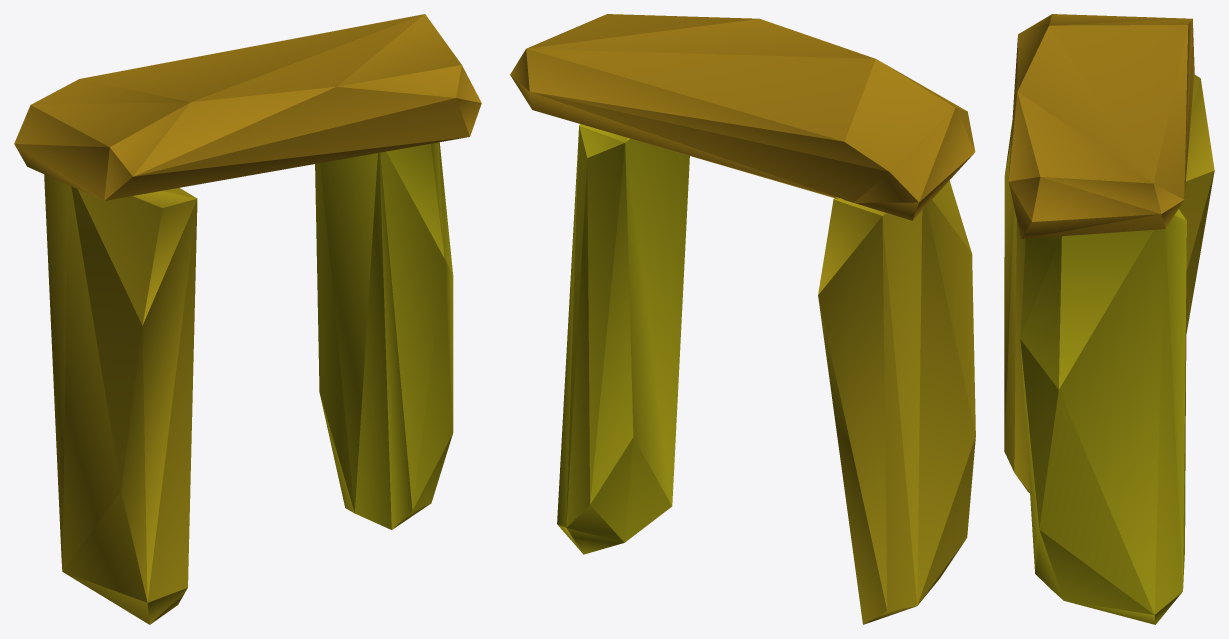
File: hairhenge01.fbx
3 renders of one model, left to right at view 1: azimuth 30°, elevation 25°; view 2: azimuth 150°, elevation 25°; view 3: azimuth 270°, elevation 25°, orthographic. The views are drawn at different scales.
Parts seen in each view (by area): view 1: hairhenge.001; view 2: hairhenge.001; view 3: hairhenge.001.
Boxes of the visible parts, <box> form: hairhenge.001: <box>14,14,481,624</box>; hairhenge.001: <box>510,14,975,624</box>; hairhenge.001: <box>1004,14,1214,624</box>.
Bounding box in the file's own units: 4.43 × 5.26 × 2.02.
